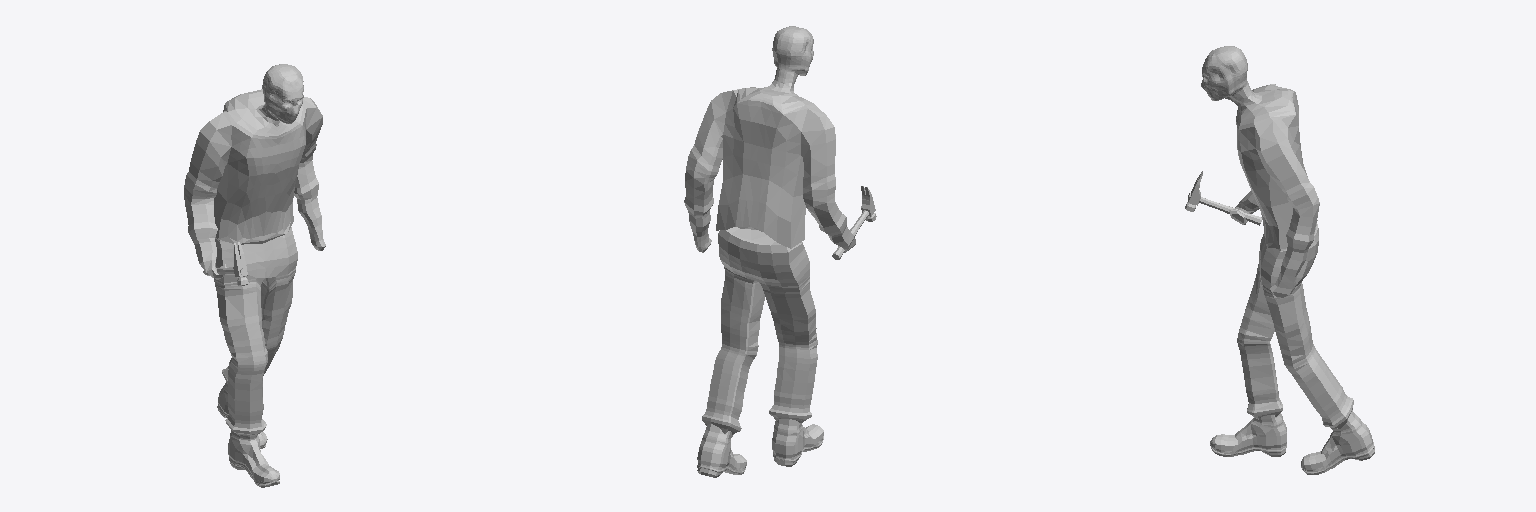
Rendered from Murderer_Idle146.obj.
3 views of the same model, side by side, from view 1: azimuth 30°, elevation 25°; view 2: azimuth 150°, elevation 25°; view 3: azimuth 270°, elevation 25° (orthographic).
Parts seen in each view (by area): view 1: Körper, Beine, Stiefel, Hammer; view 2: Körper, Beine, Stiefel, Hammer; view 3: Körper, Beine, Stiefel, Hammer.
Boxes of the visible parts, <box> form: Körper: <box>184,64,325,279</box>; Beine: <box>214,227,297,435</box>; Stiefel: <box>217,382,279,487</box>; Hammer: <box>203,242,248,285</box>; Körper: <box>684,26,855,252</box>; Beine: <box>702,227,817,437</box>; Stiefel: <box>697,419,823,477</box>; Hammer: <box>832,186,876,259</box>; Körper: <box>1201,46,1319,297</box>; Beine: <box>1237,224,1353,428</box>; Stiefel: <box>1210,410,1374,474</box>; Hammer: <box>1185,171,1261,225</box>.
Size of the model in its own units: 0.3397 by 0.9615 by 0.3996.